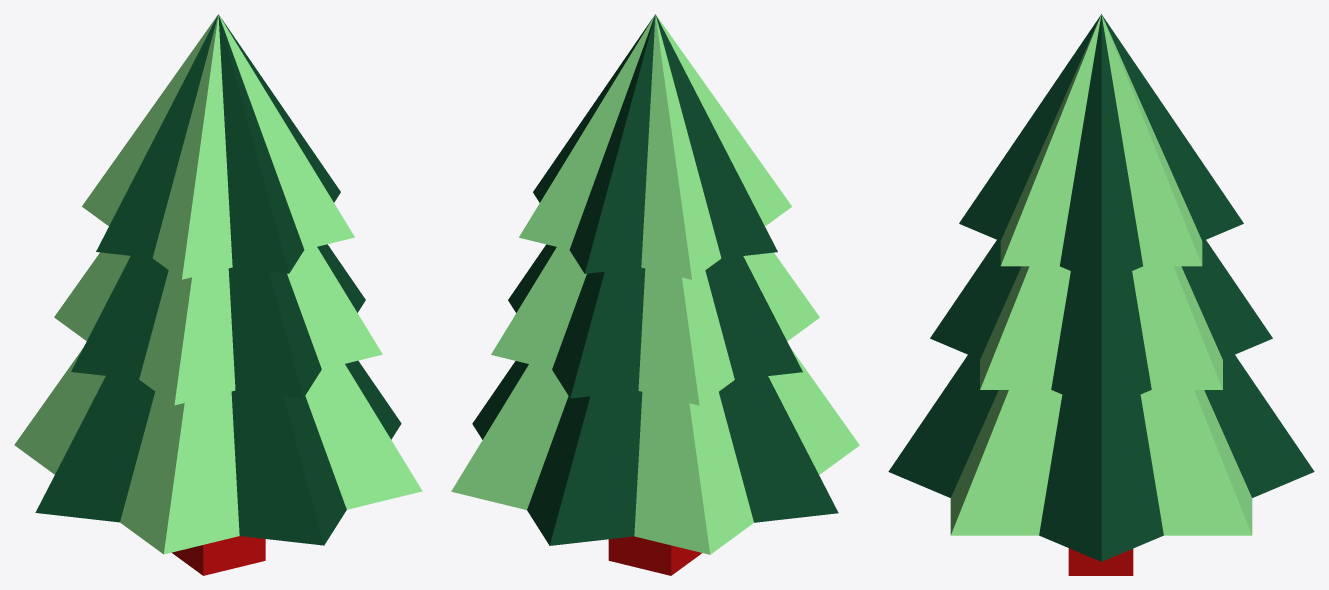
The model's file is sapin.FBX.
The picture shows the model from 3 angles, left to right: view 1: azimuth 30°, elevation 25°; view 2: azimuth 150°, elevation 25°; view 3: azimuth 270°, elevation 25°; orthographic projection.
Visible parts, largest first — view 1: pinetree; view 2: pinetree; view 3: pinetree.
Part boxes in pixels (left/top/right/bottom): pinetree: left=14, top=14, right=422, bottom=575; pinetree: left=451, top=14, right=859, bottom=575; pinetree: left=888, top=14, right=1314, bottom=575.
Bounding box in the file's own units: 0.1436 × 0.2032 × 0.1436.
